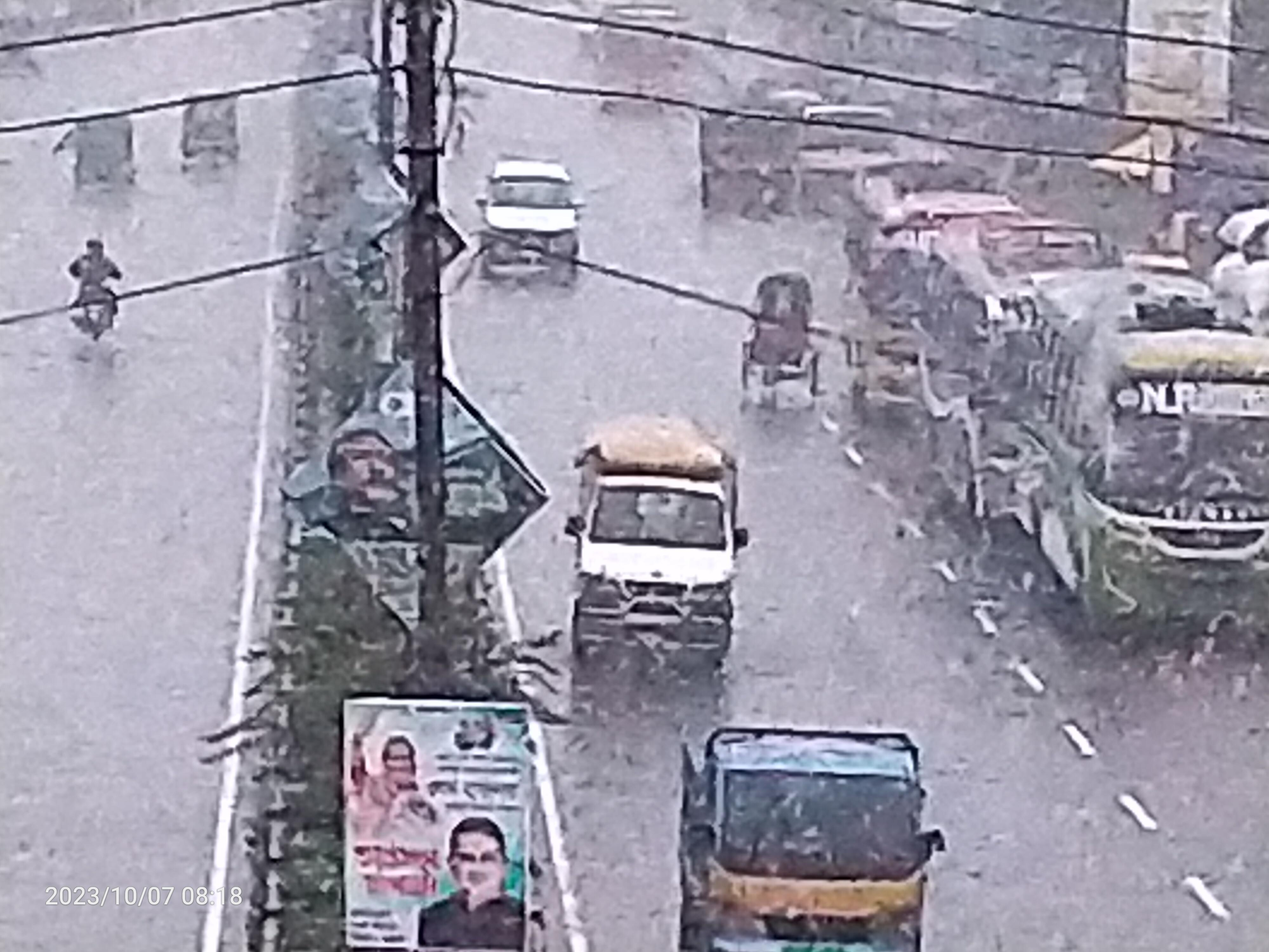Bike: (41, 220, 157, 361)
Bus: (1006, 255, 1269, 651)
Car: (517, 405, 786, 705), (473, 136, 597, 308), (719, 249, 843, 414)
Truck: (644, 705, 997, 952)
